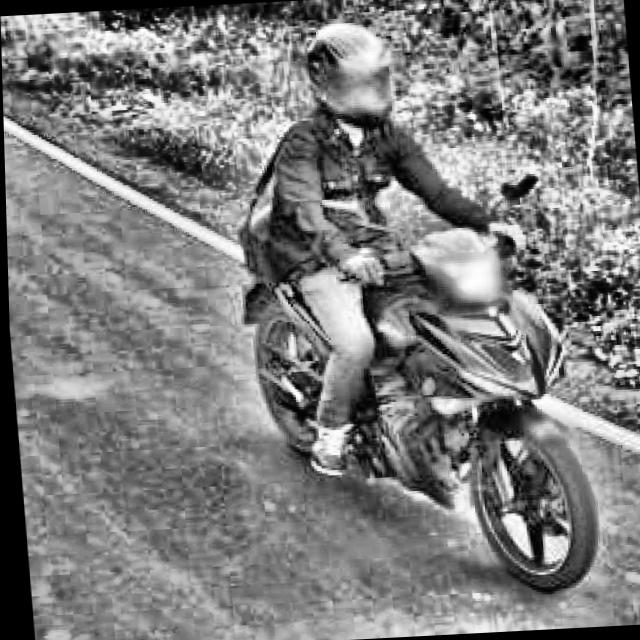motorcycle: (194, 146, 598, 607)
